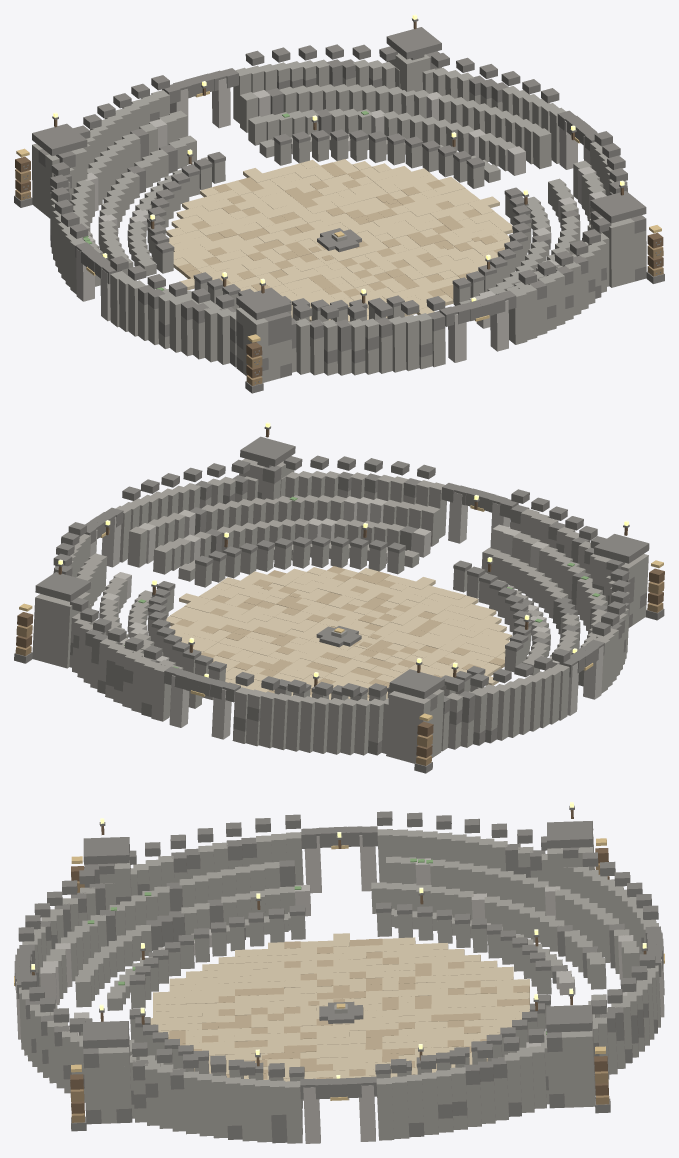
File: arena.glb
The picture shows the model from 3 angles, top to bottom: view 1: azimuth 30°, elevation 25°; view 2: azimuth 150°, elevation 25°; view 3: azimuth 270°, elevation 25°; orthographic projection. The views are drawn at different scales.
Visible parts, largest first — view 1: Arena_Stone, Arena_StoneDark, Arena_Sand, Arena_SandDark, Arena_StoneLight, Arena_WoodDark, Arena_Wood; view 2: Arena_Stone, Arena_StoneDark, Arena_Sand, Arena_StoneLight, Arena_SandDark, Arena_WoodDark, Arena_Wood; view 3: Arena_Stone, Arena_StoneDark, Arena_Sand, Arena_SandDark, Arena_StoneLight, Arena_WoodDark, Arena_Wood, Arena_Gold.
Boxes of the visible parts, <box> form: Arena_Stone: <box>32,53,646,382</box>; Arena_StoneDark: <box>14,18,664,393</box>; Arena_Sand: <box>166,159,512,321</box>; Arena_SandDark: <box>177,162,504,299</box>; Arena_StoneLight: <box>76,78,606,362</box>; Arena_WoodDark: <box>15,21,663,378</box>; Arena_Wood: <box>15,169,663,385</box>; Arena_Stone: <box>32,458,648,763</box>; Arena_StoneDark: <box>14,426,664,773</box>; Arena_Sand: <box>166,567,511,700</box>; Arena_StoneLight: <box>90,492,603,739</box>; Arena_SandDark: <box>175,566,504,697</box>; Arena_WoodDark: <box>16,429,664,757</box>; Arena_Wood: <box>15,581,664,765</box>; Arena_Stone: <box>19,829,660,1143</box>; Arena_StoneDark: <box>14,805,663,1143</box>; Arena_Sand: <box>150,933,529,1100</box>; Arena_SandDark: <box>168,938,529,1079</box>; Arena_StoneLight: <box>16,835,664,1143</box>; Arena_WoodDark: <box>32,810,646,1113</box>; Arena_Wood: <box>70,861,609,1122</box>; Arena_Gold: <box>14,838,664,1100</box>.
Bounding box in the file's own units: 59.59 × 14.12 × 59.57.
